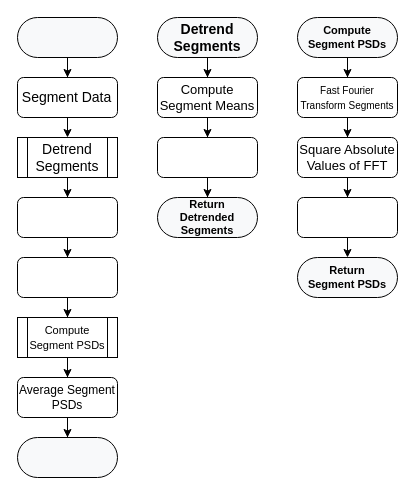
Some shapes in this 415 by 495 pixel diagram are drawn without their labels. Each missing label, with the centre of its shape:
"Apply Negative Value Correction" belongs at point 347,217.
"Correction Constant Applied" belongs at point 67,277.
"Segments are Windowed" belongs at point 67,217.
"Subtract Segment Means" belongs at point 207,157.
"Welch PSD Function is Called" belongs at point 67,37.
"Welch PSD is Returned by Function" belongs at point 67,457.
